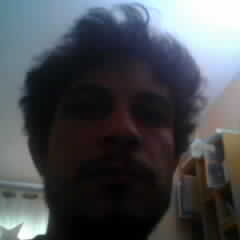without_mask: (46, 54, 178, 234)
